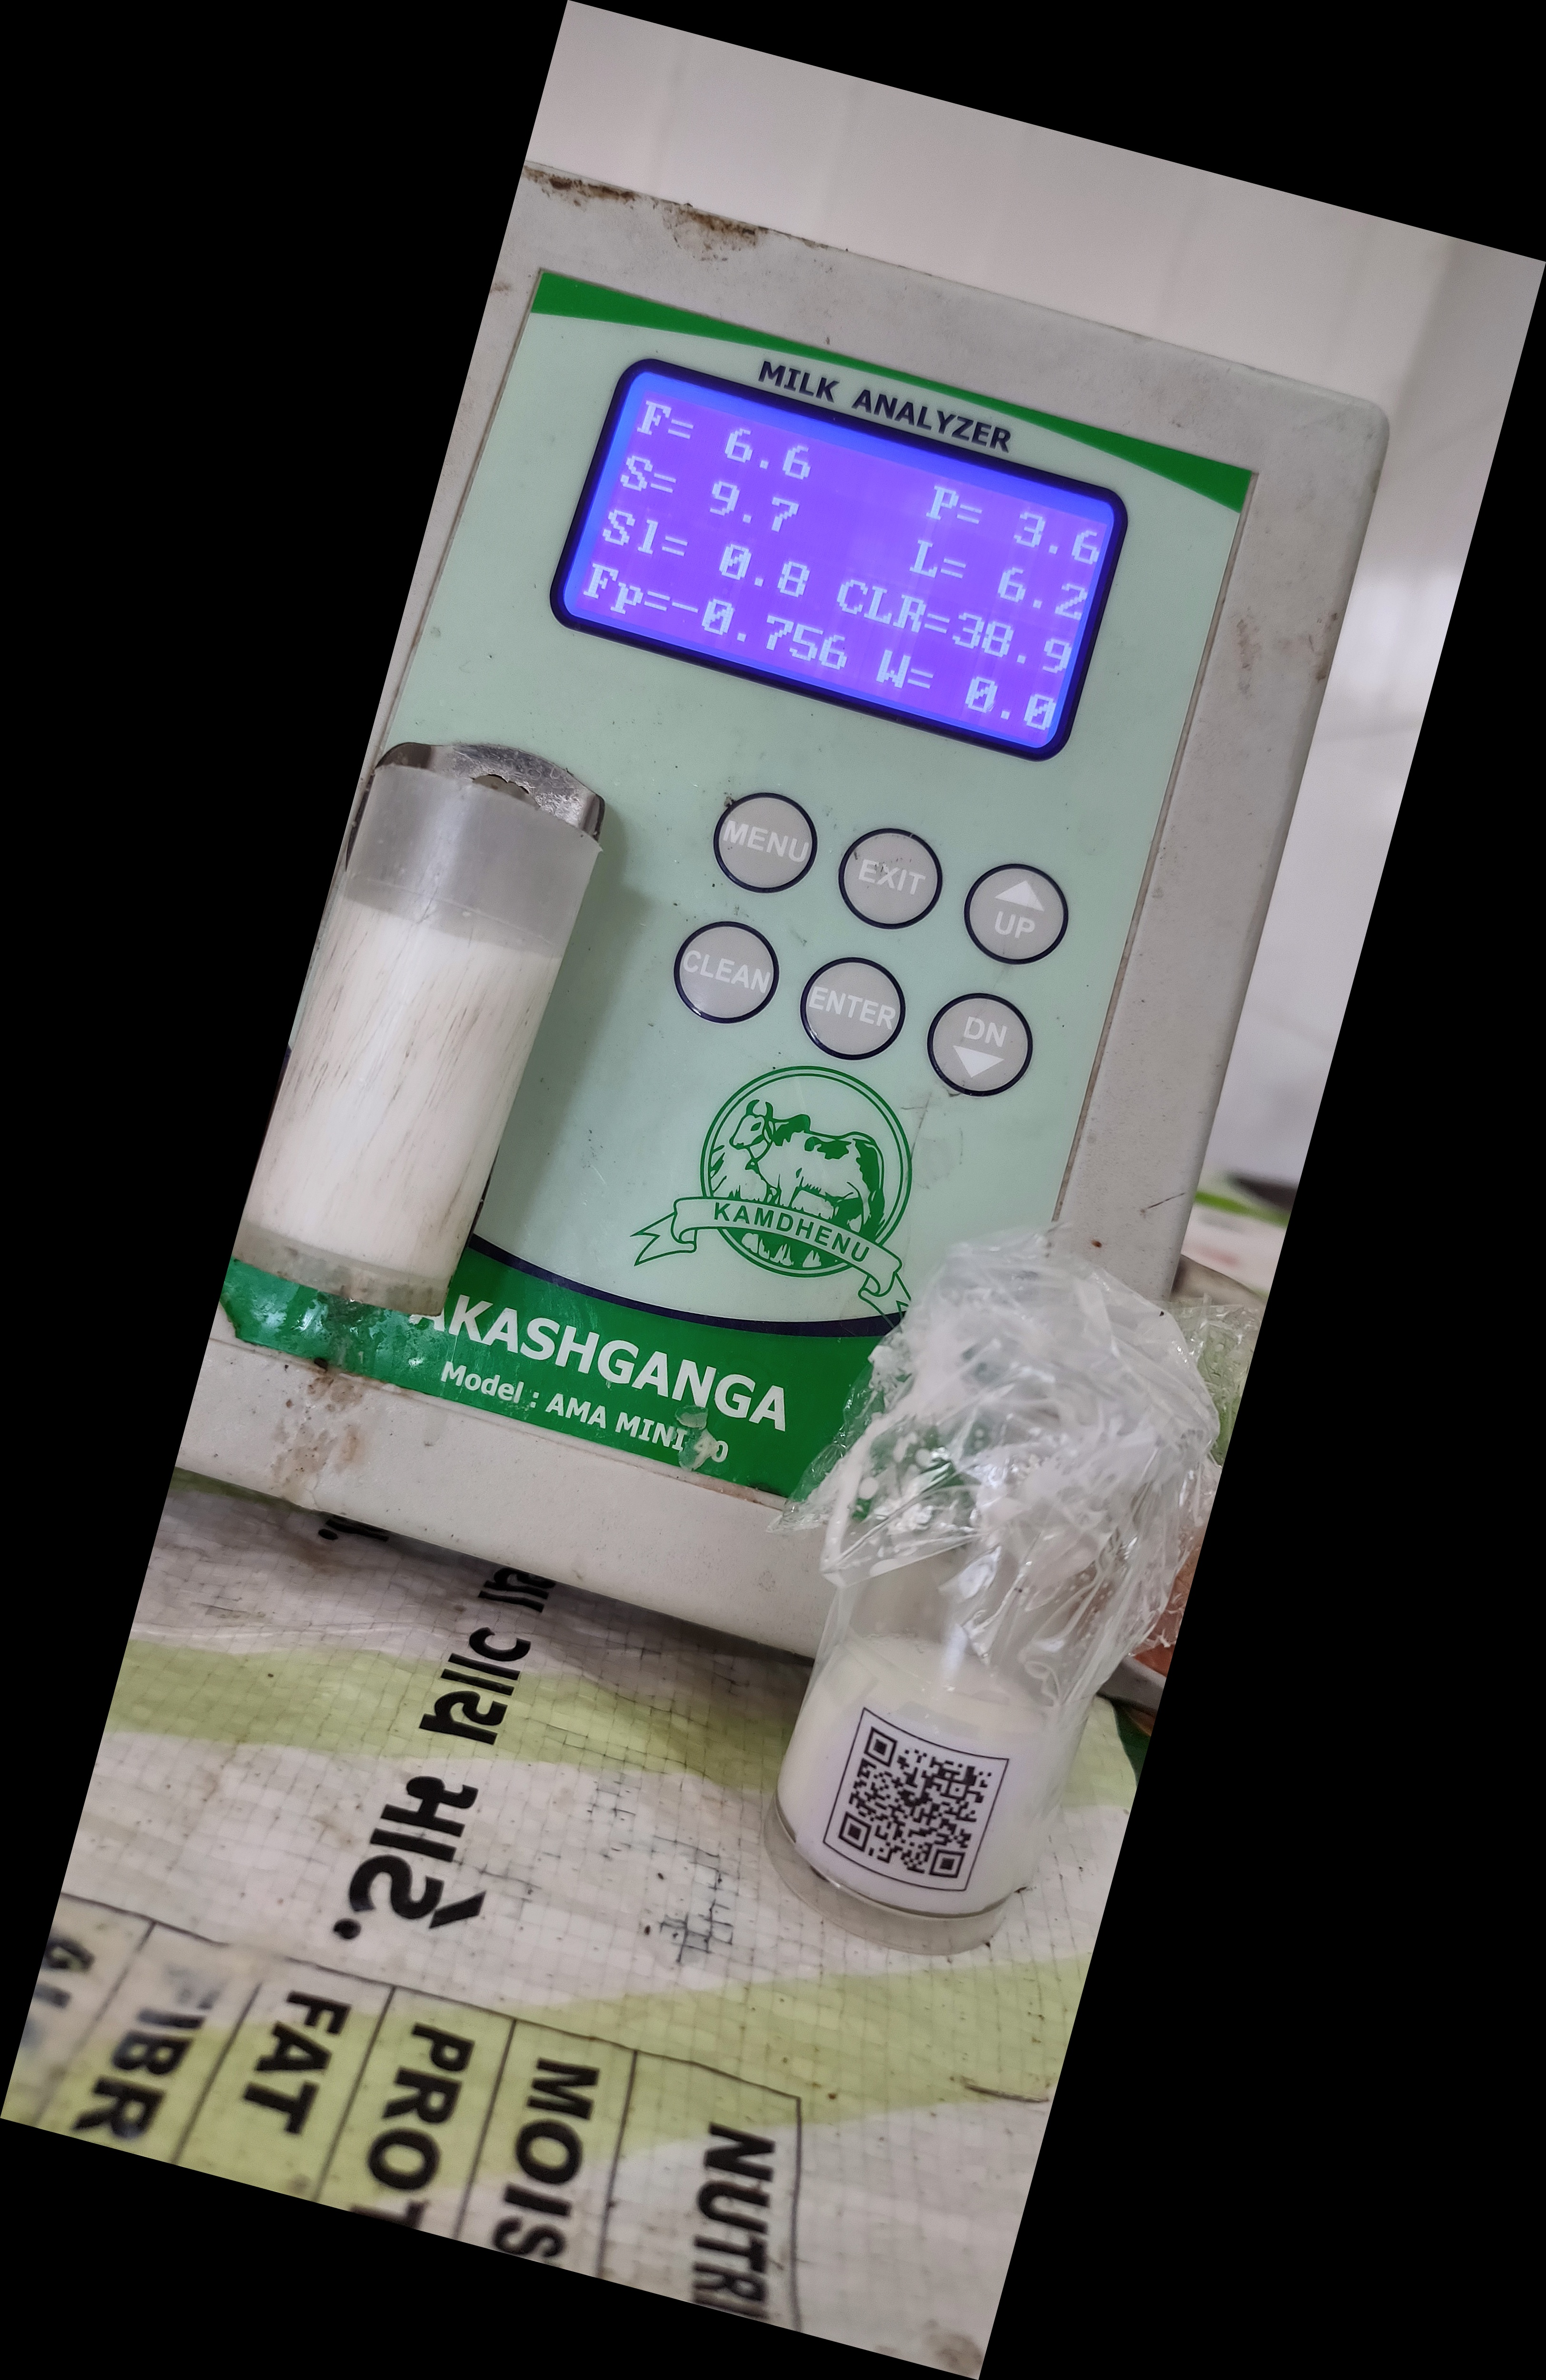lcd: (552, 337, 1152, 788)
qr: (816, 1695, 1012, 1922)
